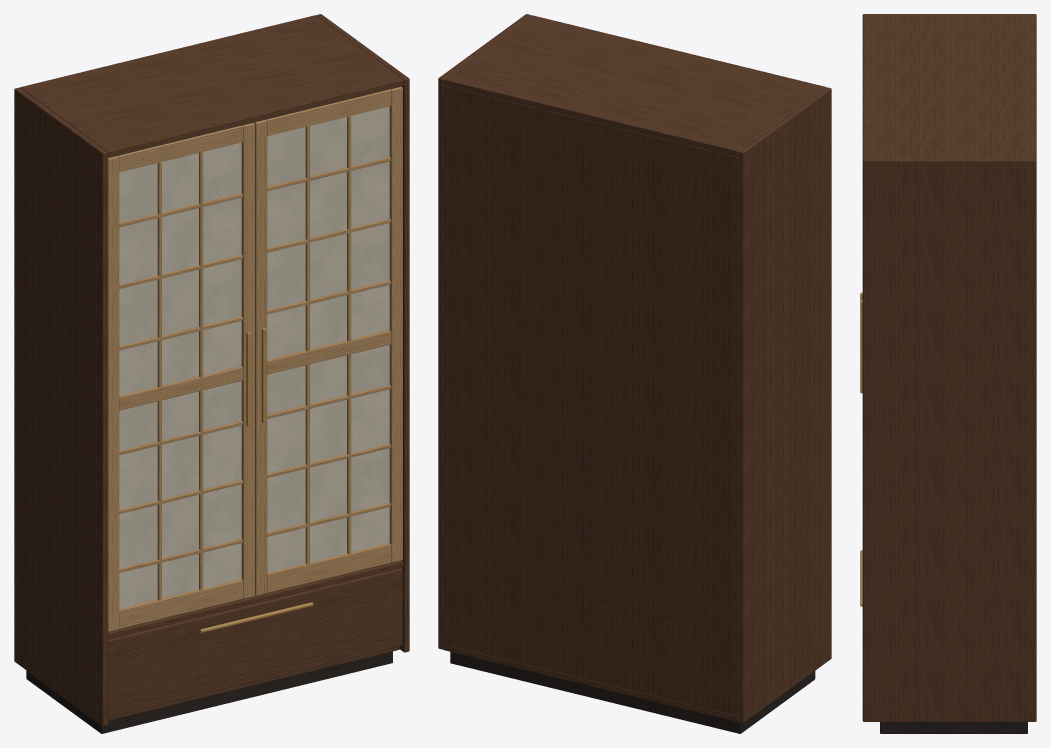
The model's file is wardrobe.glb.
3 renders of one model, left to right at view 1: azimuth 30°, elevation 25°; view 2: azimuth 150°, elevation 25°; view 3: azimuth 270°, elevation 25°, orthographic. The views are drawn at different scales.
Parts seen in each view (by area): view 1: carcass_wood_walnut_0, panel_r_paper_hanji_0, panel_l_paper_hanji_0, carcass_wood_walnut_2, drawer_wood_walnut_0, door_l_wood_oak_1, door_r_wood_oak_1, door_l_wood_oak_0, door_r_wood_oak_0, carcass_wood_walnut_1, carcass_wood_ebony_6, door_l_wood_oak_2 (+11 smaller); view 2: carcass_wood_walnut_5, carcass_wood_walnut_0, carcass_wood_walnut_2, carcass_wood_ebony_6, carcass_wood_walnut_1, carcass_wood_walnut_3, carcass_wood_walnut_4; view 3: carcass_wood_walnut_1, carcass_wood_walnut_2, carcass_wood_ebony_6, carcass_wood_walnut_0.
Boxes of the visible parts, x1,y1,x2,y2 form: carcass_wood_walnut_0: [14, 87, 107, 726]; panel_r_paper_hanji_0: [119, 142, 241, 608]; panel_l_paper_hanji_0: [267, 106, 389, 572]; carcass_wood_walnut_2: [20, 15, 403, 157]; drawer_wood_walnut_0: [108, 568, 402, 717]; door_l_wood_oak_1: [389, 86, 402, 562]; door_r_wood_oak_1: [241, 122, 254, 598]; door_l_wood_oak_0: [254, 119, 267, 595]; door_r_wood_oak_0: [108, 155, 119, 631]; carcass_wood_walnut_1: [316, 14, 409, 652]; carcass_wood_ebony_6: [26, 651, 392, 733]; door_l_wood_oak_2: [267, 543, 391, 592]; carcass_wood_walnut_5: [443, 85, 738, 716]; carcass_wood_walnut_0: [738, 87, 831, 722]; carcass_wood_walnut_2: [444, 15, 825, 157]; carcass_wood_ebony_6: [450, 652, 815, 733]; carcass_wood_walnut_1: [438, 14, 530, 649]; carcass_wood_walnut_3: [443, 644, 738, 721]; carcass_wood_walnut_4: [444, 563, 737, 635]; carcass_wood_walnut_1: [862, 158, 1036, 721]; carcass_wood_walnut_2: [862, 16, 1036, 158]; carcass_wood_ebony_6: [880, 722, 1027, 733]; carcass_wood_walnut_0: [862, 14, 1036, 16].
Size of what is drawn, in the model's own units: 1.2 by 2.2 by 0.608.
9 materials, 9 textured.
